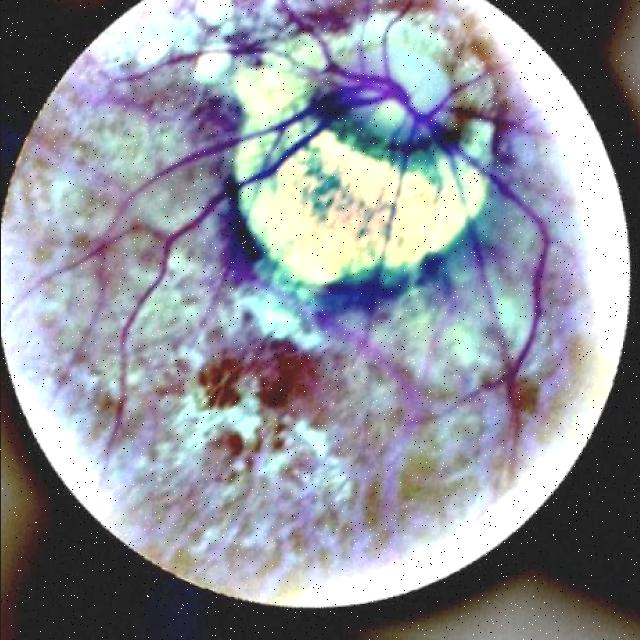Optic Disk: (231, 36, 492, 288), (240, 132, 468, 285), (389, 18, 452, 112)
